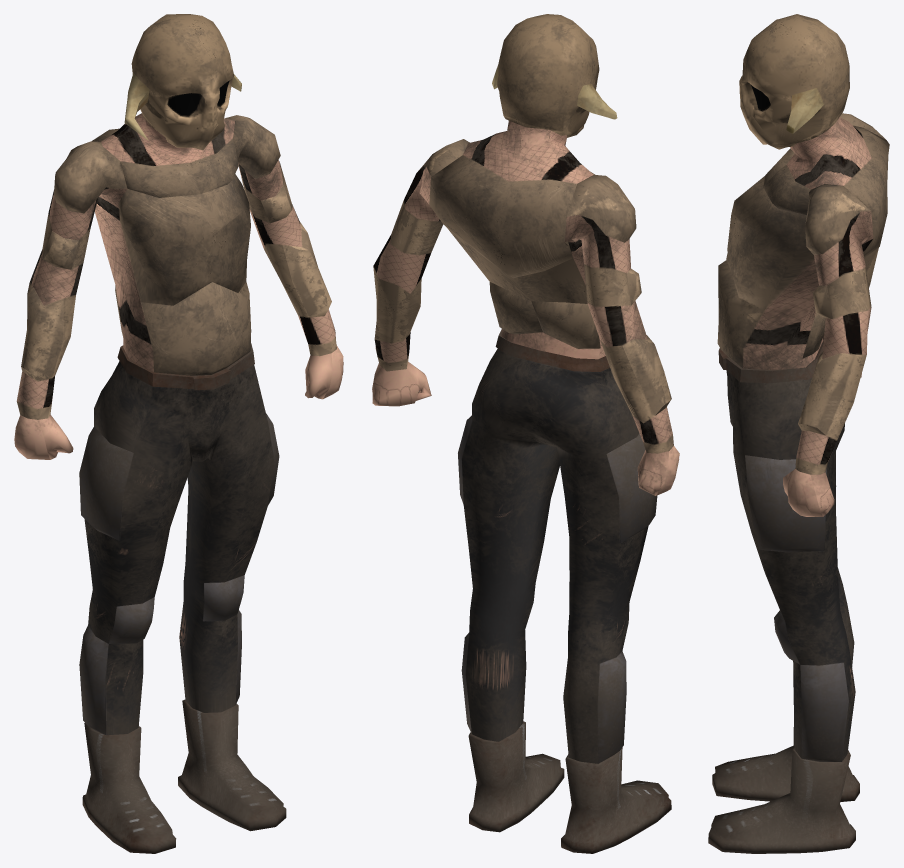
The model's file is Anim_recibirdanyo_npc1.0011.obj.
3 renders of one model, left to right at view 1: azimuth 30°, elevation 25°; view 2: azimuth 150°, elevation 25°; view 3: azimuth 270°, elevation 25°, orthographic.
Visible parts, largest first — view 1: NPC2; view 2: NPC2; view 3: NPC2.
Boxes of the visible parts, x1,y1,x2,y2 form: NPC2: (14,14,343,853); NPC2: (372,14,679,853); NPC2: (708,14,889,853).
Size of the model in its own units: 3.95 by 9.59 by 1.96.
